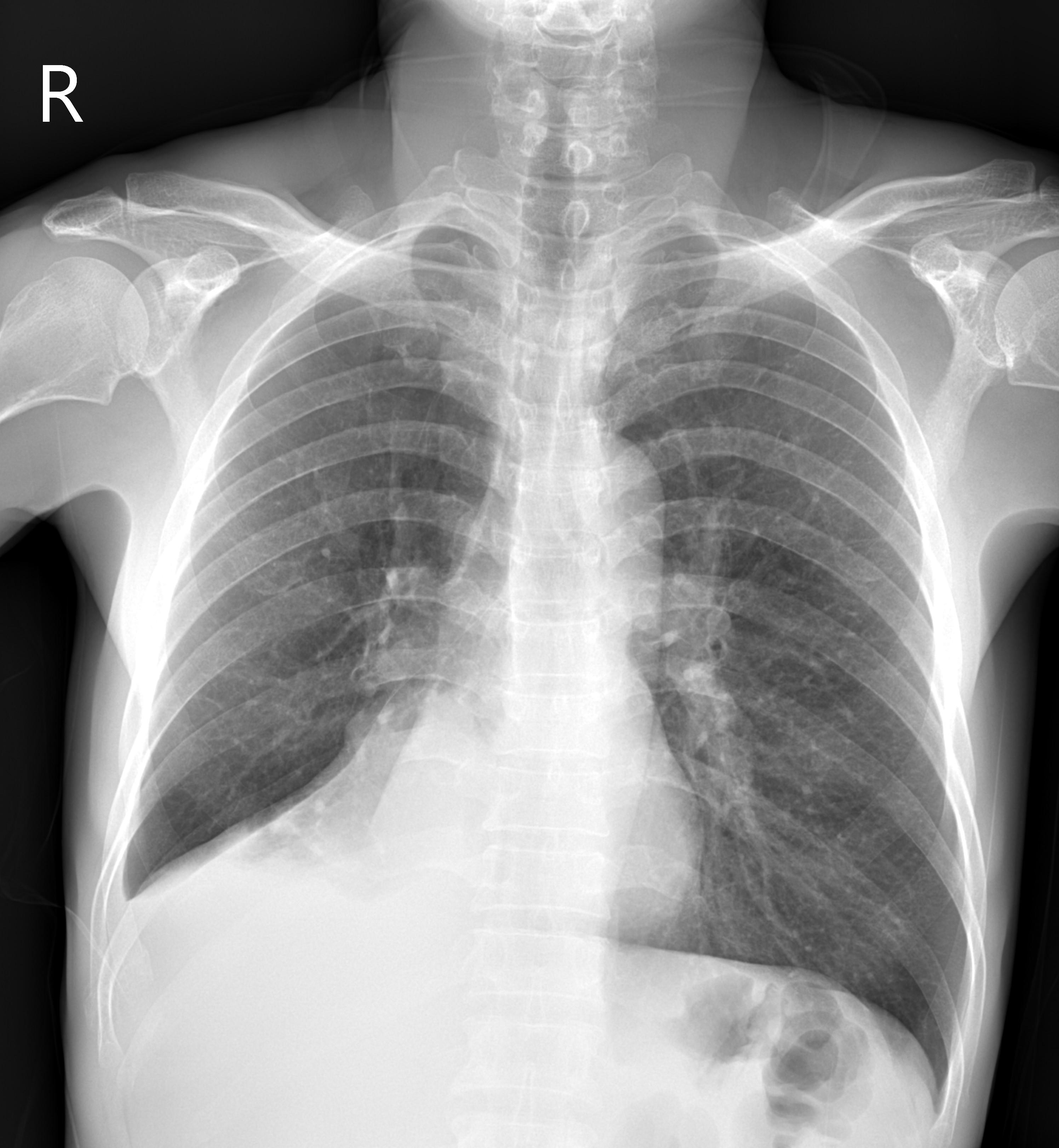Pleural thickening: (102, 863, 153, 939)
